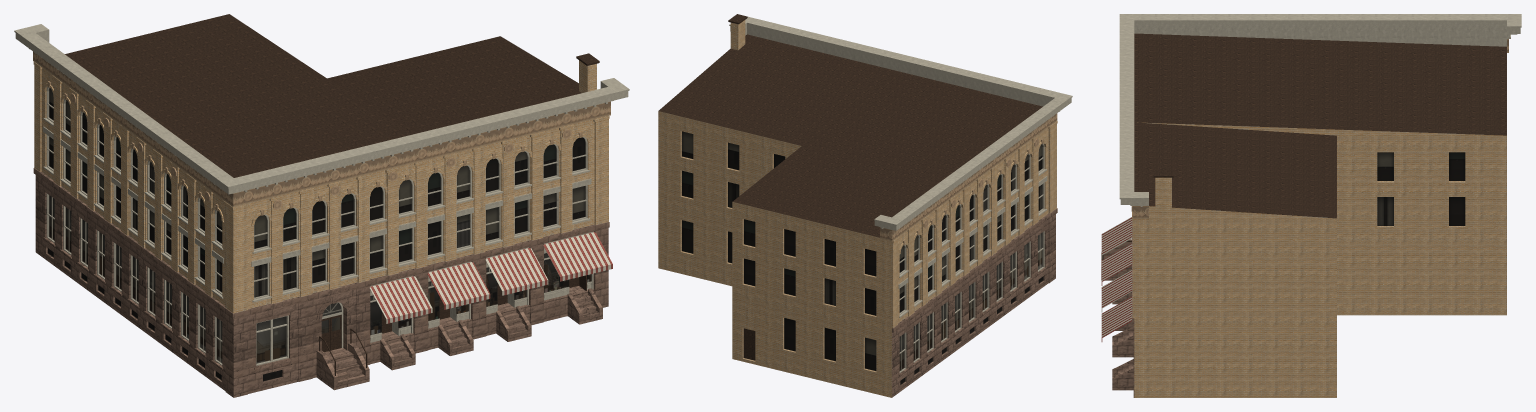
File: bank-building.glb
The picture shows the model from 3 angles, left to right: view 1: azimuth 30°, elevation 25°; view 2: azimuth 150°, elevation 25°; view 3: azimuth 270°, elevation 25°; orthographic projection. The views are drawn at different scales.
Visible parts, largest first — view 1: BankBuilding; view 2: BankBuilding; view 3: BankBuilding.
Boxes of the visible parts, left/top/right/bottom form: BankBuilding: left=14, top=14, right=629, bottom=397; BankBuilding: left=658, top=14, right=1072, bottom=397; BankBuilding: left=1101, top=14, right=1521, bottom=397.
Bounding box in the file's own units: 23.74 × 13.4 × 22.92.
Materials: 9 (8 with a texture image).
